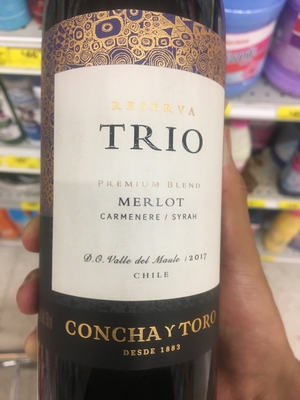trio merlot: (43, 12, 232, 400)
